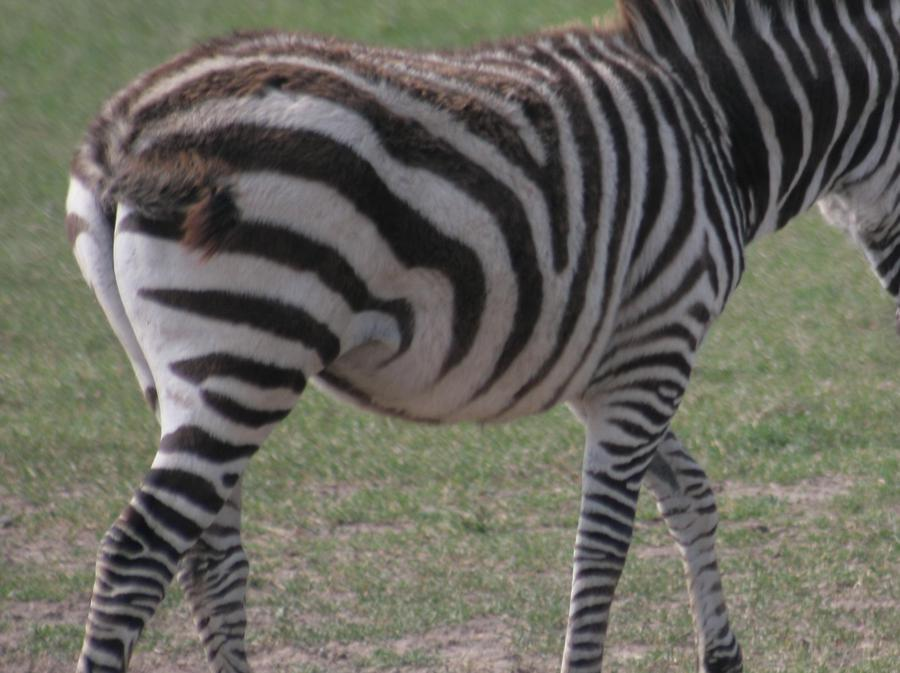zebra_plains: (139, 27, 758, 430)
